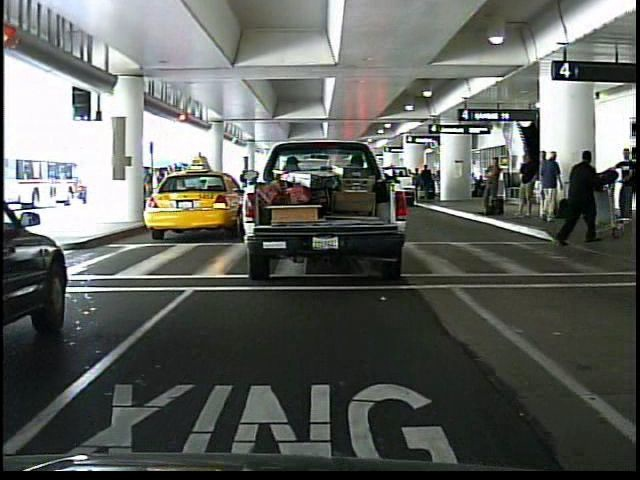person: (558, 145, 603, 245), (539, 149, 565, 224), (618, 145, 638, 224)
